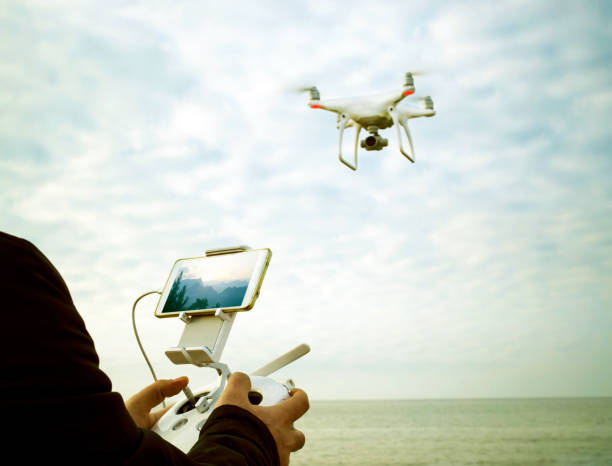Drone: (281, 63, 450, 173)
